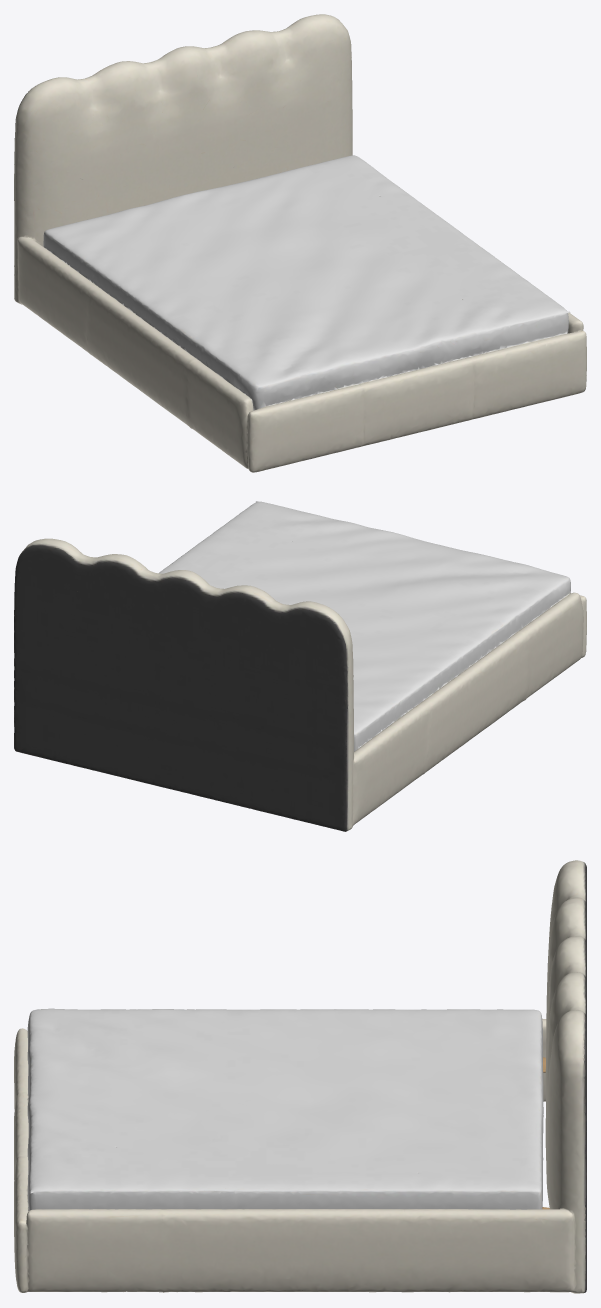
Rendered from modern_upholstered_platform_bed_vnlhpi.glb.
3 renders of one model, top to bottom at view 1: azimuth 30°, elevation 25°; view 2: azimuth 150°, elevation 25°; view 3: azimuth 270°, elevation 25°, orthographic. The views are drawn at different scales.
Visible parts, largest first — view 1: world; view 2: world; view 3: world.
Part boxes in pixels (x1=…): world: x1=14, y1=14, x2=586, y2=472; world: x1=14, y1=501, x2=586, y2=831; world: x1=14, y1=860, x2=586, y2=1293.
Size of the model in its own units: 0.8197 by 0.4962 by 0.9981.
1 material, 1 textured.
